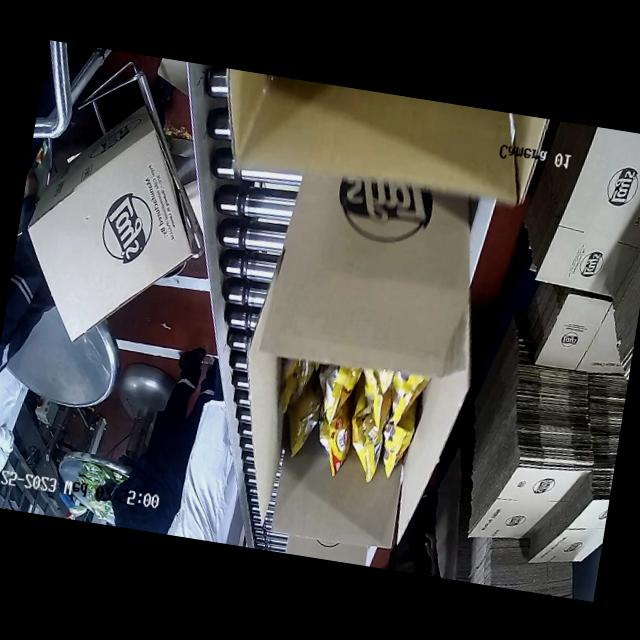salted: (278, 336, 424, 504)
